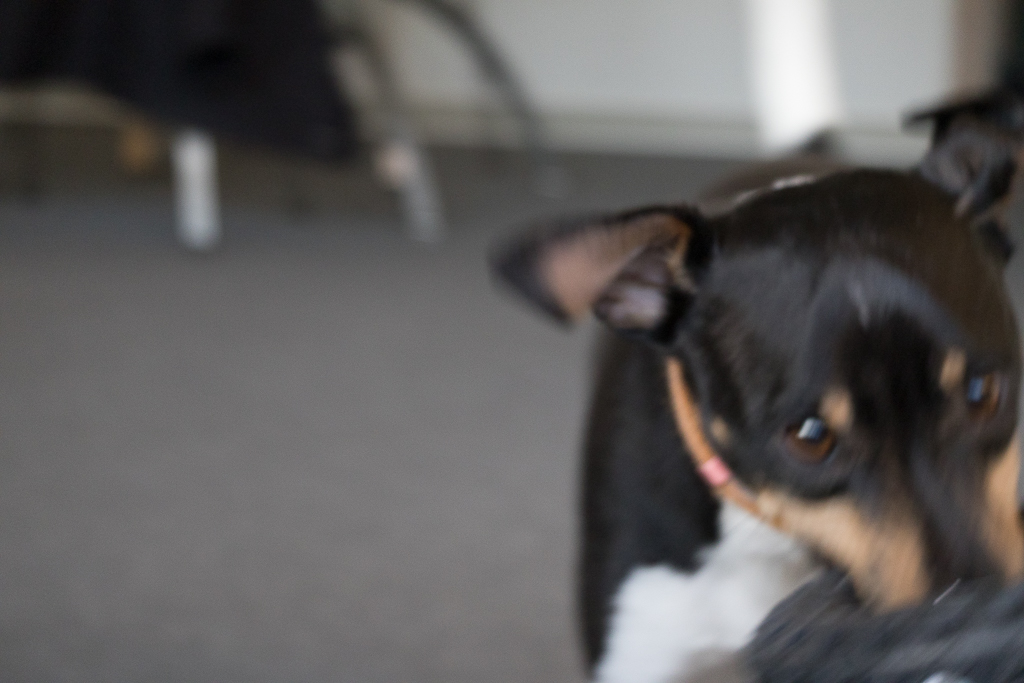Dog: (471, 0, 1024, 683)
